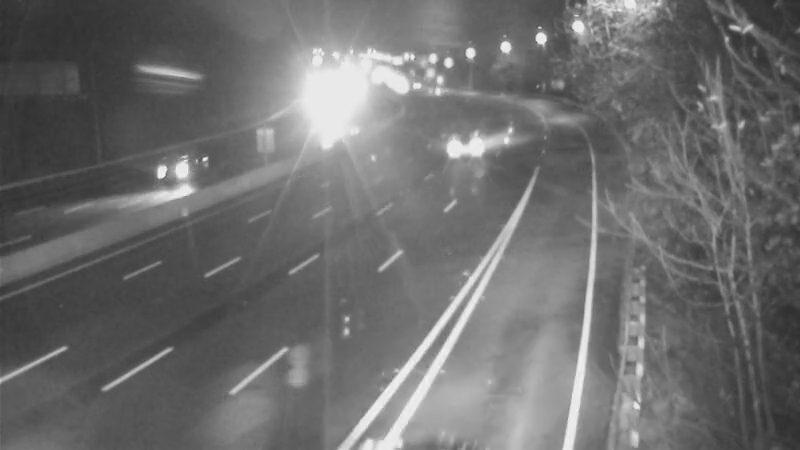vehicle: (128, 137, 208, 217), (407, 66, 457, 116), (439, 116, 489, 166)
